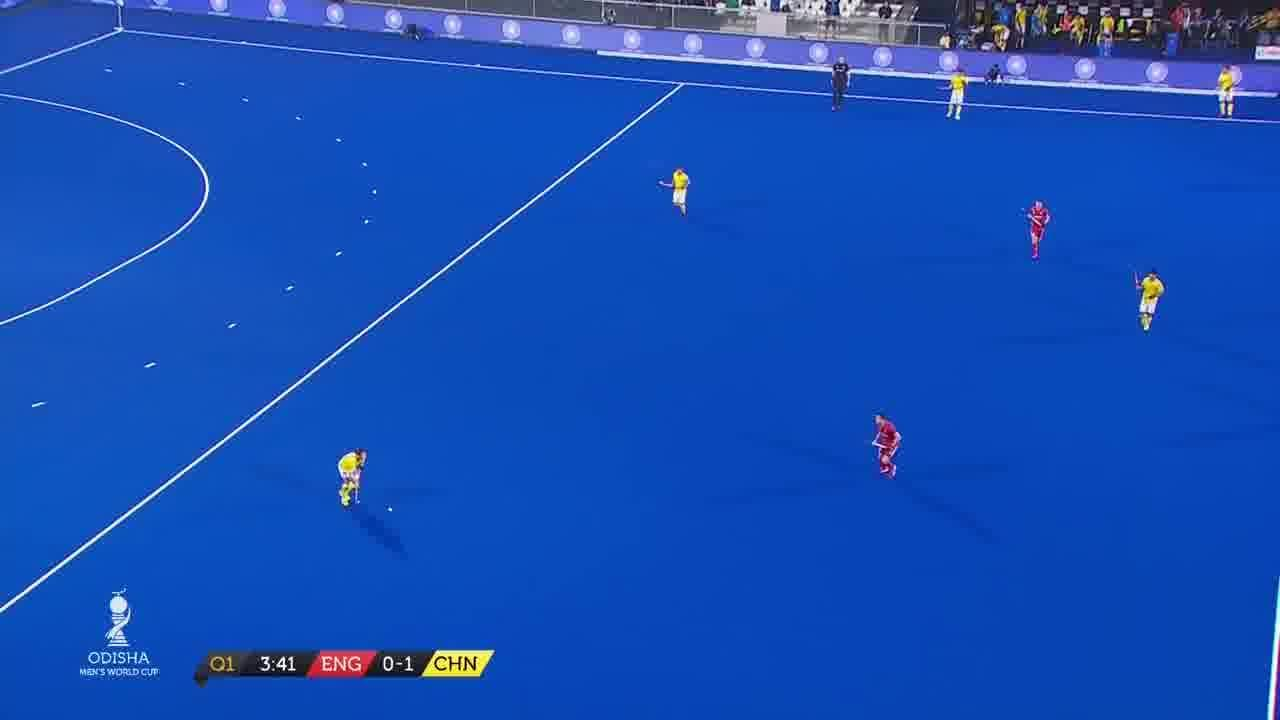ball: (382, 502, 398, 520)
